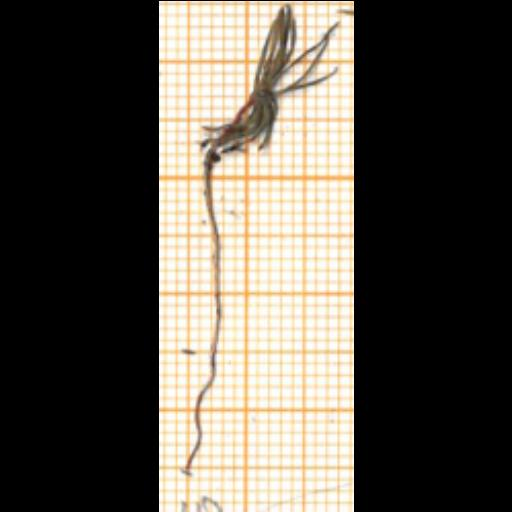flowerPinus: (203, 5, 338, 150)
rootPinus: (186, 352, 216, 475)
stemPinus: (203, 151, 220, 354)
